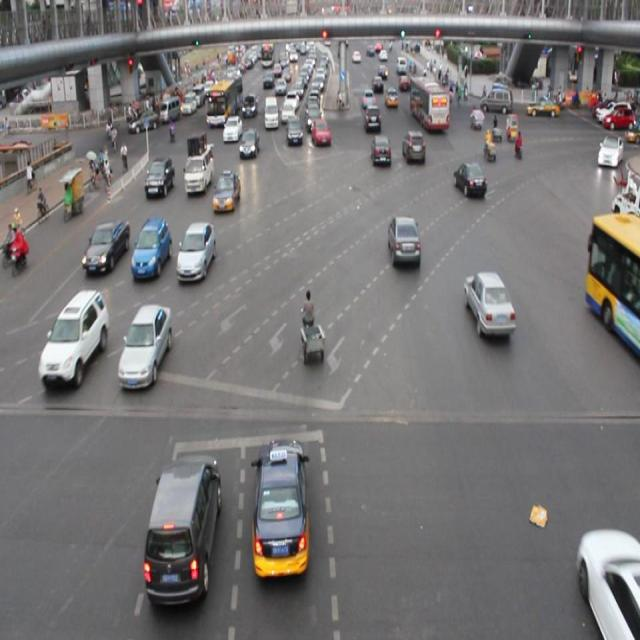car: (252, 438, 308, 579), (577, 531, 640, 640), (42, 288, 107, 390), (120, 304, 170, 389), (462, 272, 514, 336), (83, 221, 130, 273), (176, 221, 216, 282), (132, 218, 170, 279), (387, 215, 421, 269), (145, 157, 176, 200), (213, 170, 242, 213), (452, 162, 486, 197), (402, 130, 425, 165), (309, 115, 332, 149), (362, 102, 382, 136), (237, 128, 258, 160), (371, 135, 390, 167), (284, 116, 303, 148), (222, 116, 242, 145)
truck: (149, 452, 220, 604), (183, 133, 213, 195)
van: (582, 213, 640, 360), (410, 77, 448, 132)
